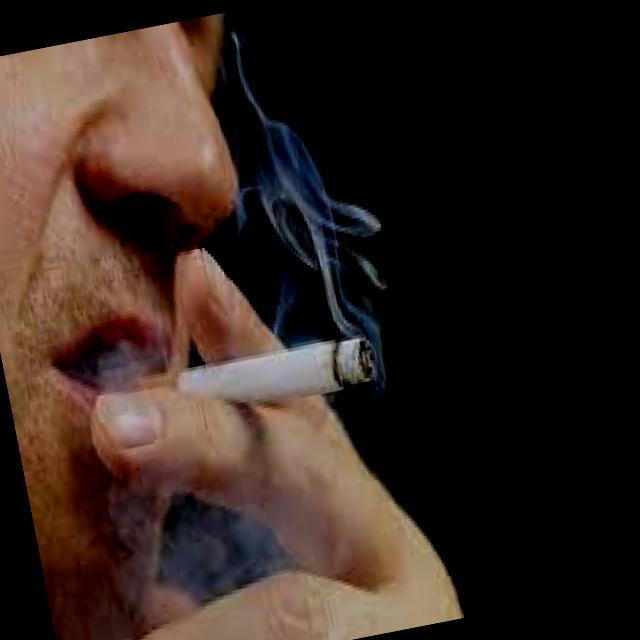cigarette: (120, 326, 382, 441)
